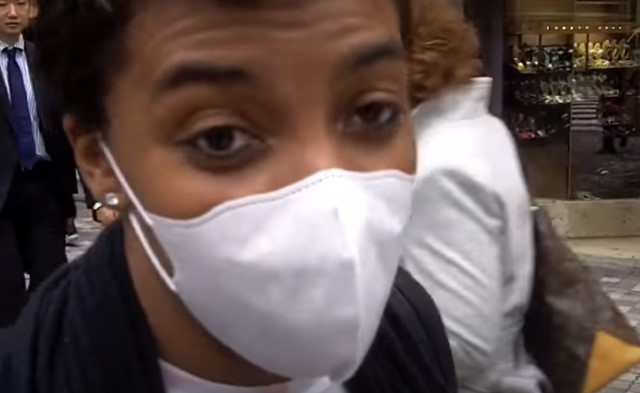face_no_mask: (0, 0, 40, 36)
face_with_mask: (46, 8, 420, 381)
